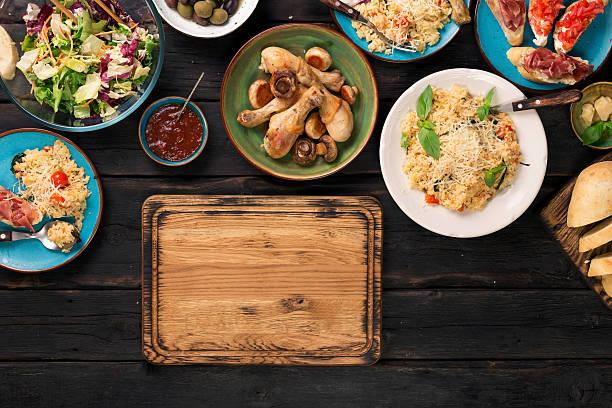Braised Crucian Carp: (379, 66, 545, 238), (219, 22, 375, 180), (0, 133, 103, 267)
